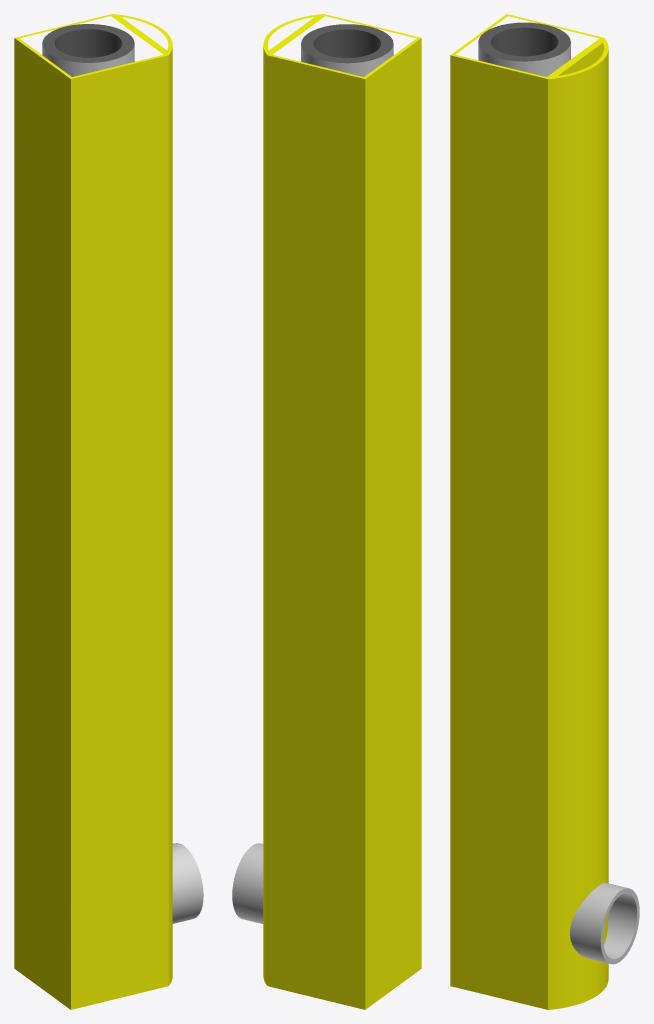
The model's file is postRohrHalb.glb.
3 renders of one model, left to right at view 1: azimuth 30°, elevation 25°; view 2: azimuth 150°, elevation 25°; view 3: azimuth 330°, elevation 25°, orthographic.
Visible parts, largest first — view 1: Pfosten_mit_deckel_2_1, OD_76_mm_ID_66_mm; view 2: Pfosten_mit_deckel_2_1, OD_76_mm_ID_66_mm; view 3: Pfosten_mit_deckel_2_1, OD_76_mm_ID_66_mm.
Part boxes in pixels (x1=…): Pfosten_mit_deckel_2_1: x1=14, y1=14, x2=172, y2=1009; OD_76_mm_ID_66_mm: x1=42, y1=24, x2=203, y2=923; Pfosten_mit_deckel_2_1: x1=263, y1=14, x2=421, y2=1009; OD_76_mm_ID_66_mm: x1=232, y1=24, x2=393, y2=923; Pfosten_mit_deckel_2_1: x1=450, y1=14, x2=608, y2=1009; OD_76_mm_ID_66_mm: x1=478, y1=22, x2=639, y2=964.
Size of the model in its own units: 0.1592 by 1 by 0.11.
Materials: 3 (1 with a texture image).
